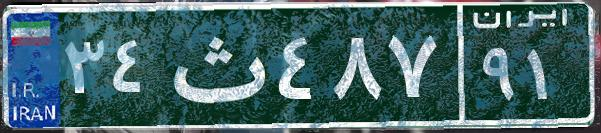1: (525, 38, 570, 115)
3: (57, 26, 110, 107)
4: (273, 28, 330, 110), (110, 28, 158, 105)
7: (385, 28, 445, 110)
8: (330, 28, 385, 110)
9: (475, 38, 525, 113)
ث: (158, 15, 273, 115)
